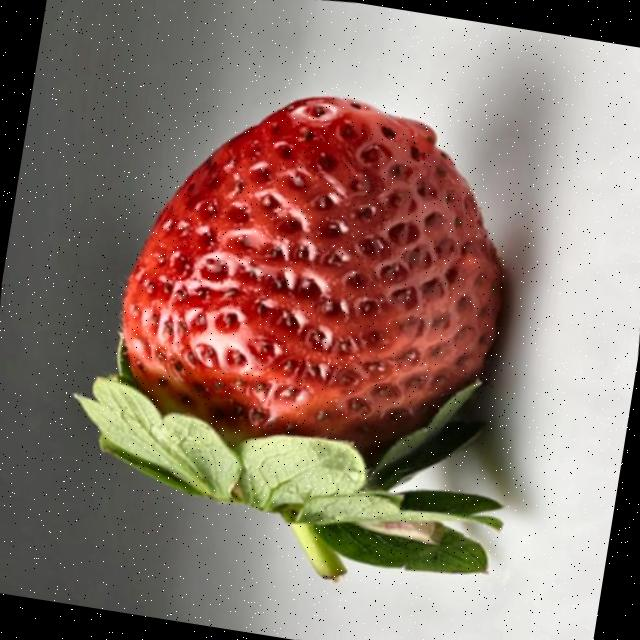strawberry: (75, 96, 501, 580)
